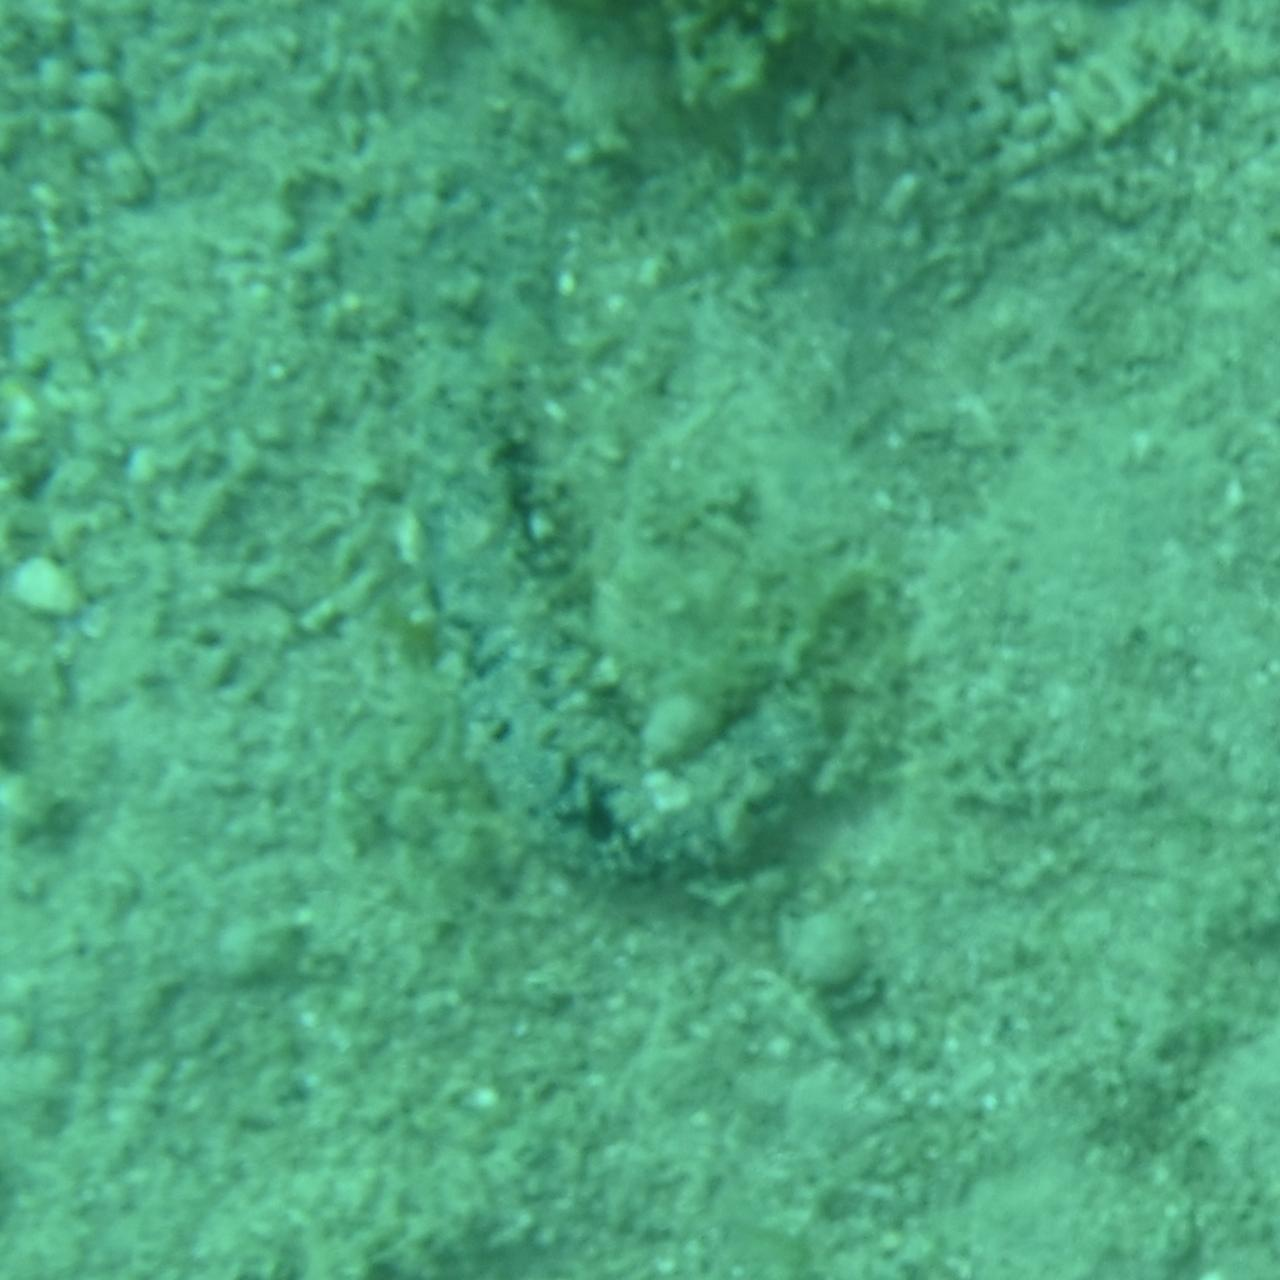Holothuria tubulosa: (371, 382, 909, 898)
